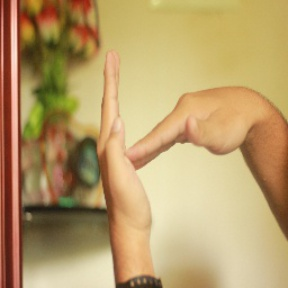Z: (76, 41, 257, 238)
